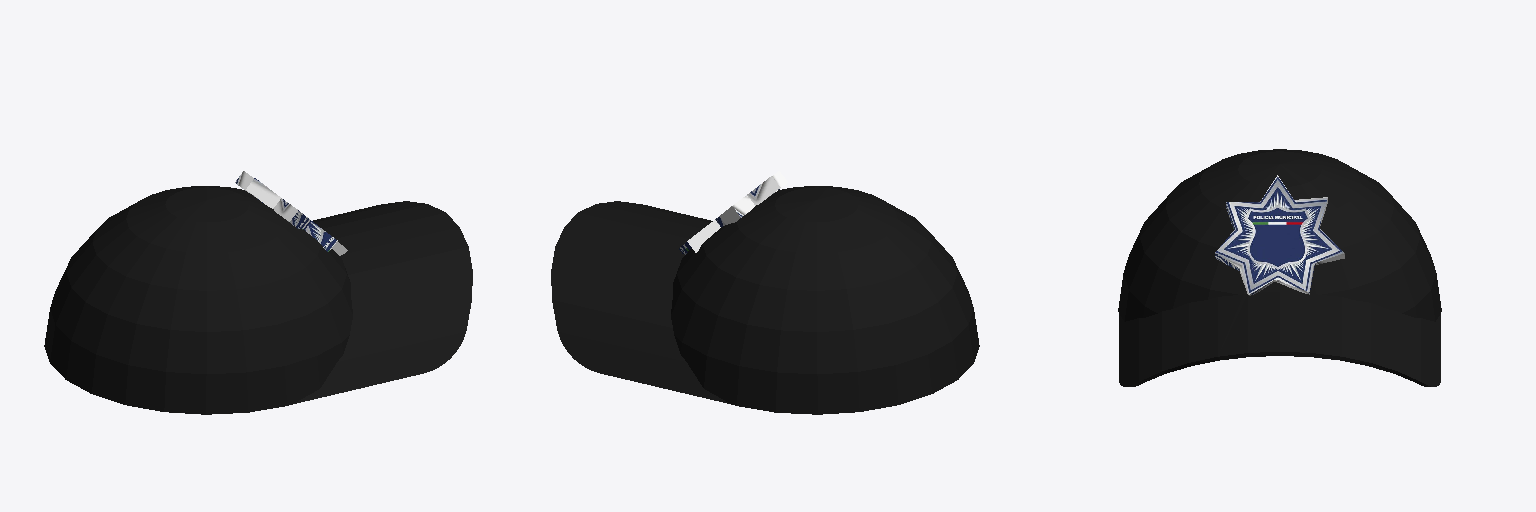
3 views of the same model, side by side, from view 1: azimuth 30°, elevation 25°; view 2: azimuth 150°, elevation 25°; view 3: azimuth 270°, elevation 25° (orthographic).
Visible parts, largest first — view 1: instance_0_ID5.010, instance_1_ID15.003; view 2: instance_0_ID5.010, instance_1_ID15.003; view 3: instance_0_ID5.010, instance_1_ID15.003.
Part boxes in pixels (bbox=[...]): instance_0_ID5.010: bbox=[44, 186, 472, 414]; instance_1_ID15.003: bbox=[235, 171, 347, 255]; instance_0_ID5.010: bbox=[551, 186, 979, 414]; instance_1_ID15.003: bbox=[679, 171, 787, 254]; instance_0_ID5.010: bbox=[1118, 149, 1441, 386]; instance_1_ID15.003: bbox=[1215, 175, 1344, 295].
Bounding box in the file's own units: 0.2925 × 0.1175 × 0.2159.
2 materials, 1 textured.